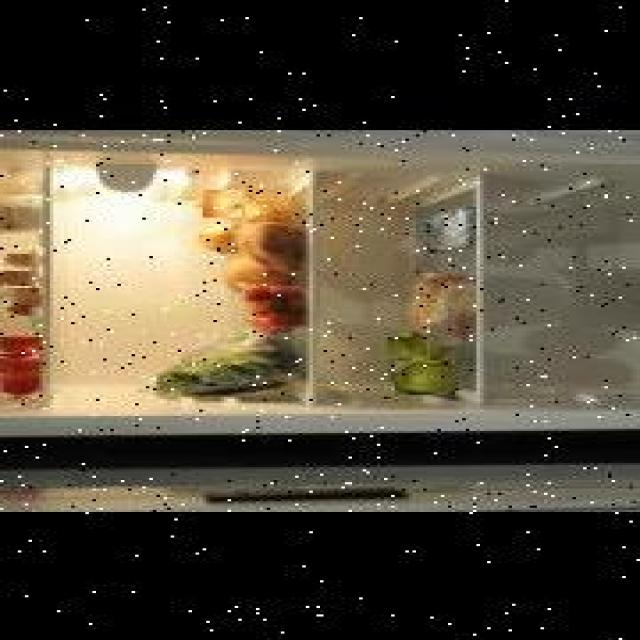apple: (395, 358, 455, 392), (389, 334, 432, 359)
egg: (3, 286, 42, 305), (4, 267, 39, 286), (4, 252, 39, 269)
onion: (202, 188, 242, 215), (199, 222, 238, 245)
tomato: (0, 352, 39, 375), (0, 371, 39, 393), (0, 335, 43, 352)
